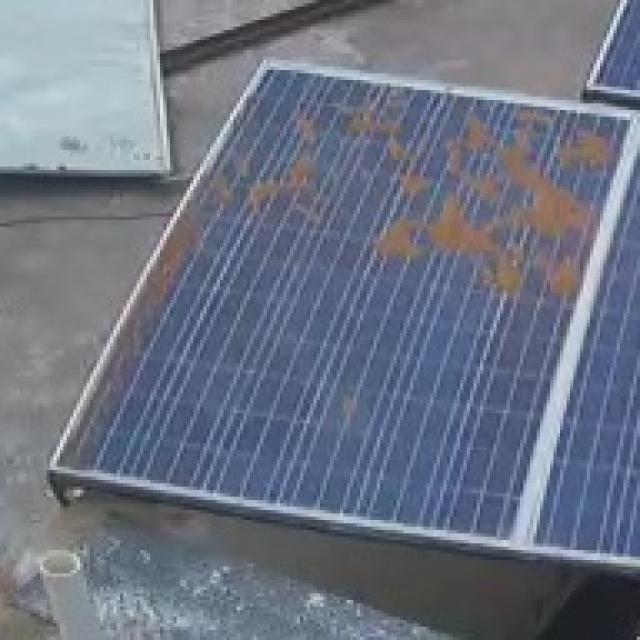Anomaly Solar Panel: (53, 58, 637, 544)
Surface Contaminant: (239, 90, 634, 297), (134, 170, 218, 348)
